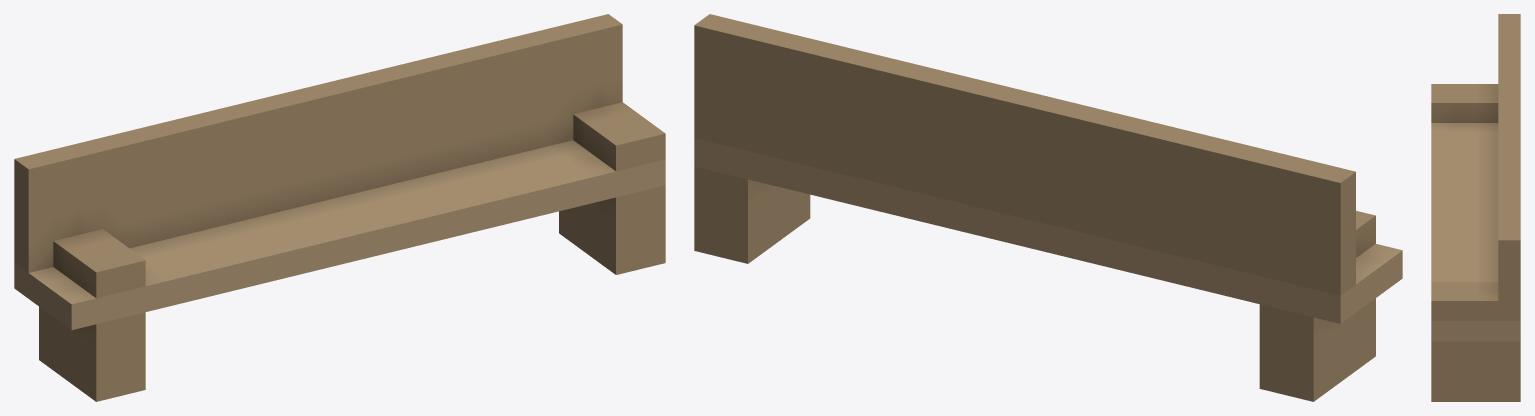
Rendered from banc.glb.
The picture shows the model from 3 angles, left to right: view 1: azimuth 30°, elevation 25°; view 2: azimuth 150°, elevation 25°; view 3: azimuth 270°, elevation 25°; orthographic projection. The views are drawn at different scales.
Visible parts, largest first — view 1: geometry_0; view 2: geometry_0; view 3: geometry_0.
Part boxes in pixels (x1,y1,x2,y2): geometry_0: (14,14,665,401); geometry_0: (694,14,1402,401); geometry_0: (1431,14,1520,401).
Size of the model in its own units: 3 by 1 by 0.5.
